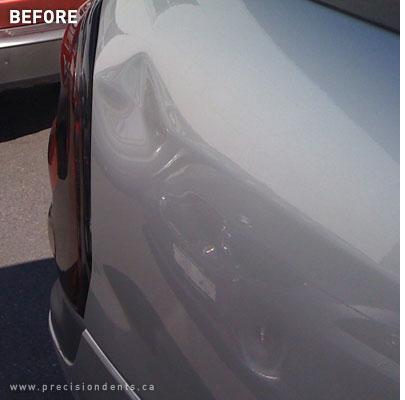dent: (82, 41, 205, 196)
